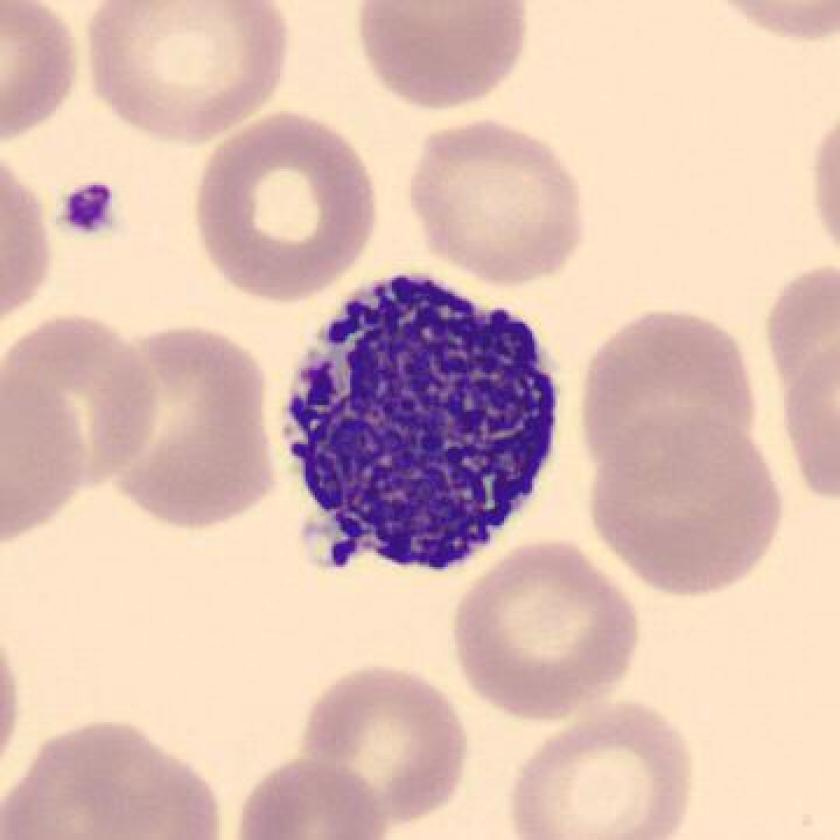basophil: (272, 265, 568, 577)
